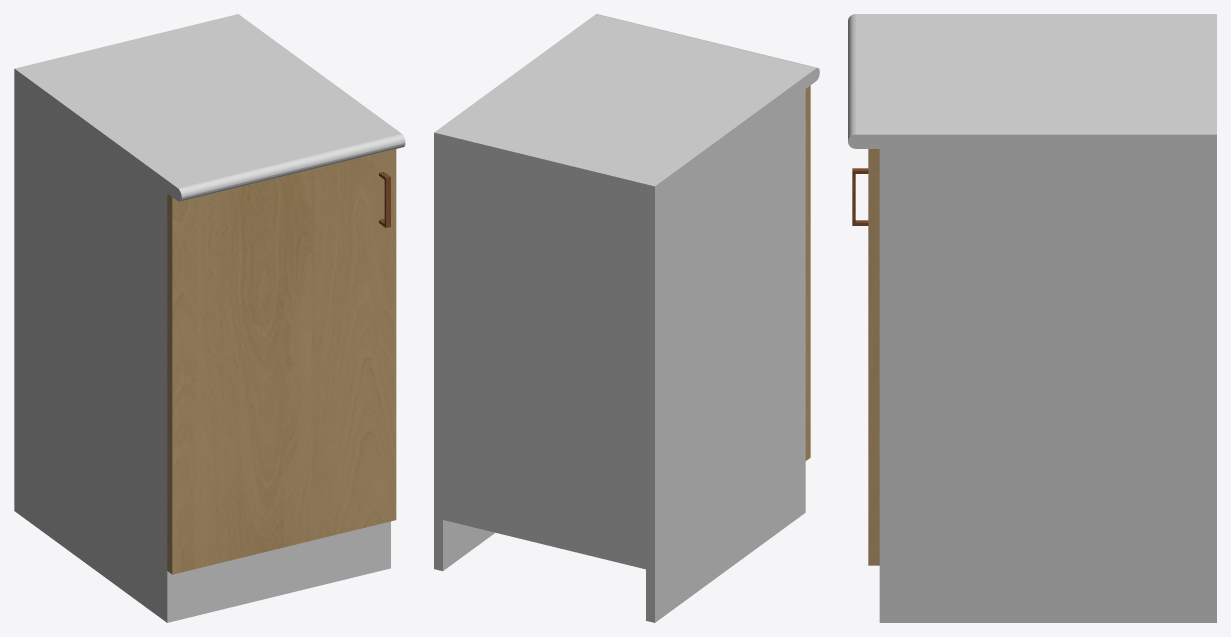
3 renders of one model, left to right at view 1: azimuth 30°, elevation 25°; view 2: azimuth 150°, elevation 25°; view 3: azimuth 270°, elevation 25°, orthographic. The views are drawn at different scales.
Visible parts, largest first — view 1: Mesh_2_group, Mesh_0_group, Mesh_4_group, Mesh_1_group; view 2: Mesh_0_group, Mesh_4_group, Mesh_1_group, Mesh_2_group; view 3: Mesh_0_group, Mesh_4_group, Mesh_1_group, Mesh_2_group.
Part boxes in pixels (x1=…): Mesh_2_group: x1=167, y1=149, x2=396, y2=574; Mesh_0_group: x1=14, y1=82, x2=167, y2=570; Mesh_4_group: x1=14, y1=14, x2=405, y2=201; Mesh_1_group: x1=14, y1=459, x2=390, y2=622; Mesh_0_group: x1=434, y1=89, x2=805, y2=571; Mesh_4_group: x1=434, y1=14, x2=819, y2=199; Mesh_1_group: x1=434, y1=461, x2=805, y2=622; Mesh_2_group: x1=805, y1=85, x2=810, y2=460; Mesh_0_group: x1=879, y1=149, x2=1216, y2=565; Mesh_4_group: x1=848, y1=14, x2=1216, y2=148; Mesh_1_group: x1=879, y1=565, x2=1216, y2=622; Mesh_2_group: x1=868, y1=149, x2=879, y2=565.
Size of the model in its own units: 0.45 by 0.85 by 0.582.
3 materials, 2 textured.
